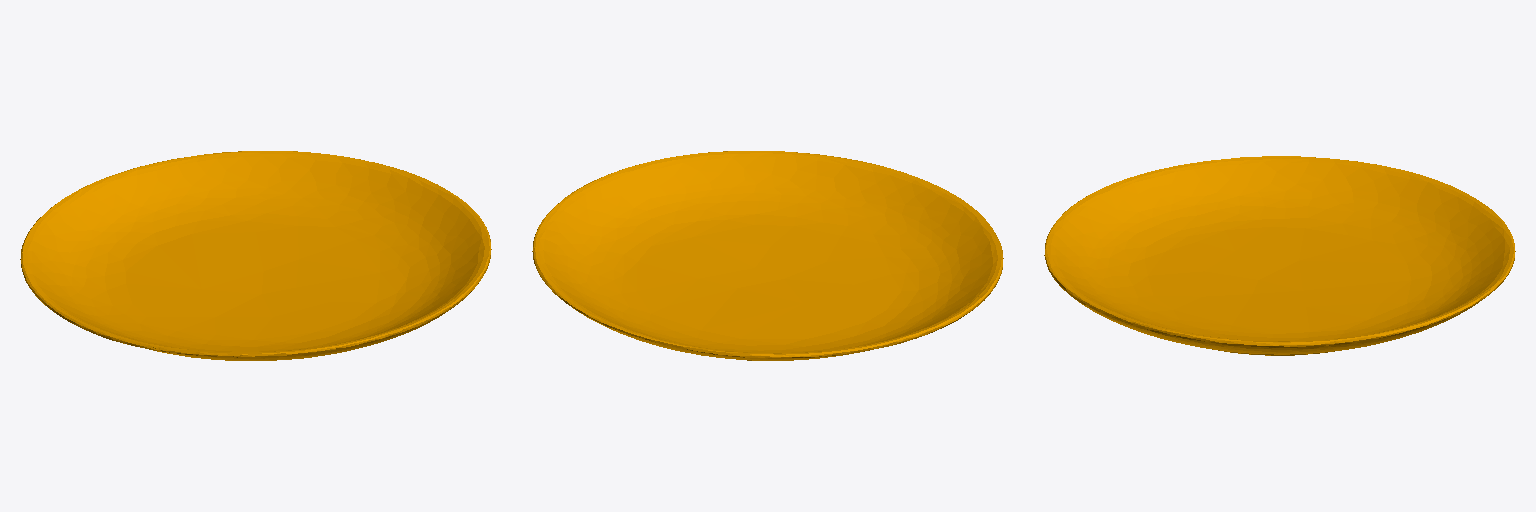
robot.urdf — plate:
<?xml version="1.0"?>
<!-- GENERATED by tasks/libero/build_env/build_object_urdf.py. Do not hand edit.

     LIBERO object `plate`, spawnable by the TRO-MP env.
     Role: graspable target object (envs/), one of the 22 LIBERO target assets.

     WHY a URDF when envs/plate/ may also hold a USD: this env spawns objects
     only through `assets.object_urdf` (scene_utils.py:1929, which calls
     _convert_urdf_to_usd at :1964). The assets dataclass declares no USD field,
     so a ready-made USD cannot be handed to this code path.

     Mesh coordinates are PRESERVED, not re-centred: 11 of 22 LIBERO envs have
     their mesh origin at the object's base, and `goal_traj` tracks that origin.
     Re-centring would offset the object from its own trajectory every frame.

     Mass: density 800.0 kg/m^3 x mesh volume 3.857738e-05 m^3
     Inertia: solid-box approximation about the COM at that mass, NOT the true
     mesh inertia tensor. Adequate for a graspable tabletop object; revisit if
     spin dynamics matter.

     Collision: the full mesh, decomposed by Isaac's URDF importer. The convex
     decomposition authored in the DexVerse USD is NOT reproduced here.
-->
<robot name="plate">
  <link name="plate">
    <inertial>
      <origin xyz="0.005613 -0.001871 0.006251" rpy="0 0 0"/>
      <mass value="0.030862"/>
      <inertia ixx="4.897431e-05" ixy="0" ixz="0" iyy="4.915698e-05" iyz="0" izz="9.670552e-05"/>
    </inertial>
    <visual>
      <origin xyz="0 0 0" rpy="0 0 0"/>
      <geometry><mesh filename="plate.obj" scale="1 1 1"/></geometry>
    </visual>
    <collision>
      <origin xyz="0 0 0" rpy="0 0 0"/>
      <geometry><mesh filename="plate.obj" scale="1 1 1"/></geometry>
    </collision>
  </link>
</robot>

--- Facts derived from the render (not from the file) ---
3 views of the same robot in one strip: view 1: azimuth 30°, elevation 25°; view 2: azimuth 150°, elevation 25°; view 3: azimuth 270°, elevation 25° (orthographic).
Model plate with 1 links and 0 joints (none), rooted at plate, posed every joint at zero.
Visible links, largest first — view 1: plate; view 2: plate; view 3: plate.
Boxes of the visible links, x1,y1,x2,y2 form: plate: (20,151,491,360); plate: (532,151,1003,360); plate: (1044,156,1515,355).
Size in the robot's own frame: 0.1372 by 0.137 by 0.0166 metres.
Meshes: 1 distinct files referenced, 1 mesh visuals loaded (1 OBJ).
